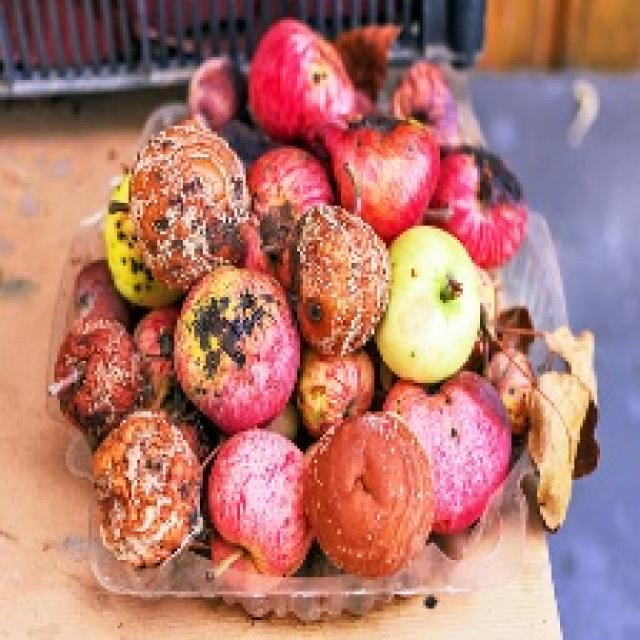rotten_apple: (307, 418, 428, 562), (130, 130, 246, 266), (184, 268, 293, 410), (396, 382, 510, 515), (103, 422, 199, 560), (289, 206, 385, 342), (339, 112, 433, 215), (439, 146, 521, 257), (54, 324, 136, 417), (300, 347, 378, 418)
